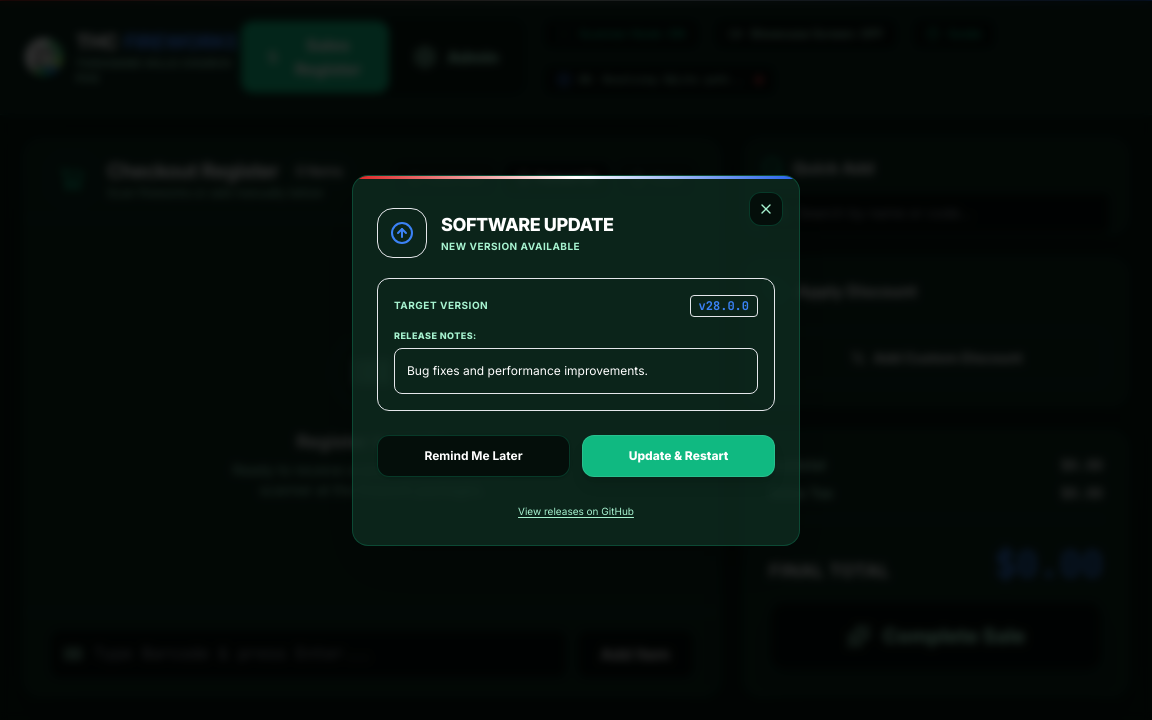
Test: App.tsx — Native Auto-Updater Modal › disables the close button (btn-update-close) while install is in progress
Click the button "Update & Restart" at (678, 456), box [582,434,775,476]
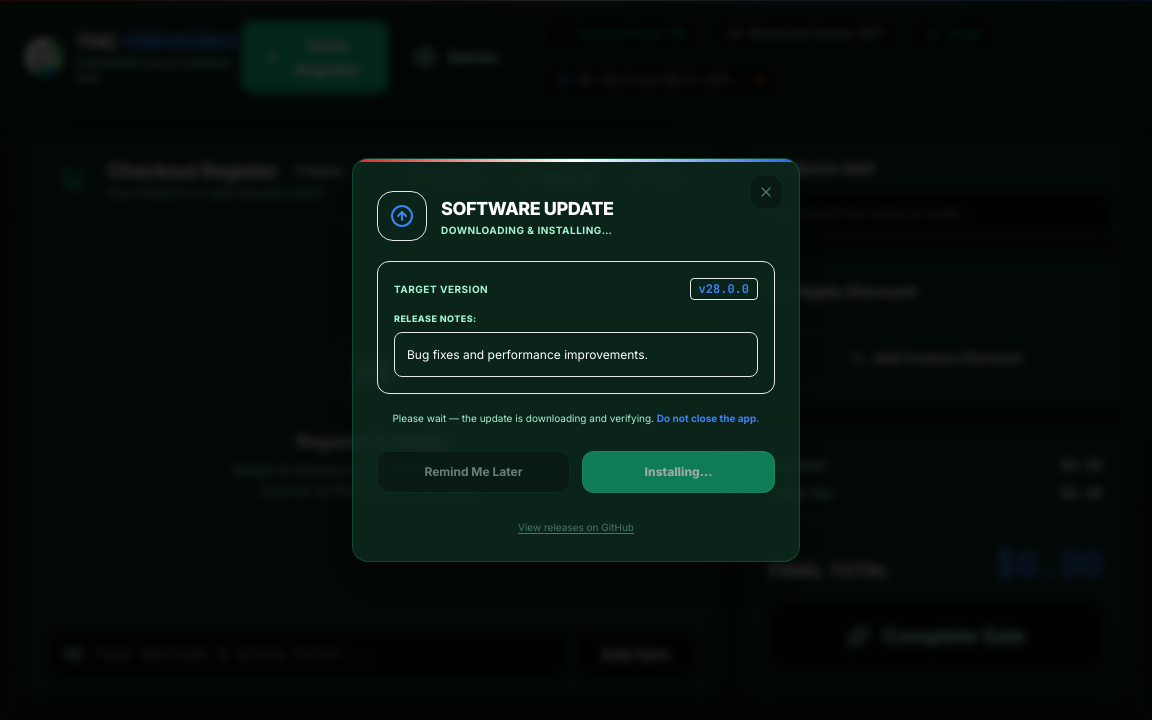
Expected: the 1st button is disabled, [749,175,783,209]
